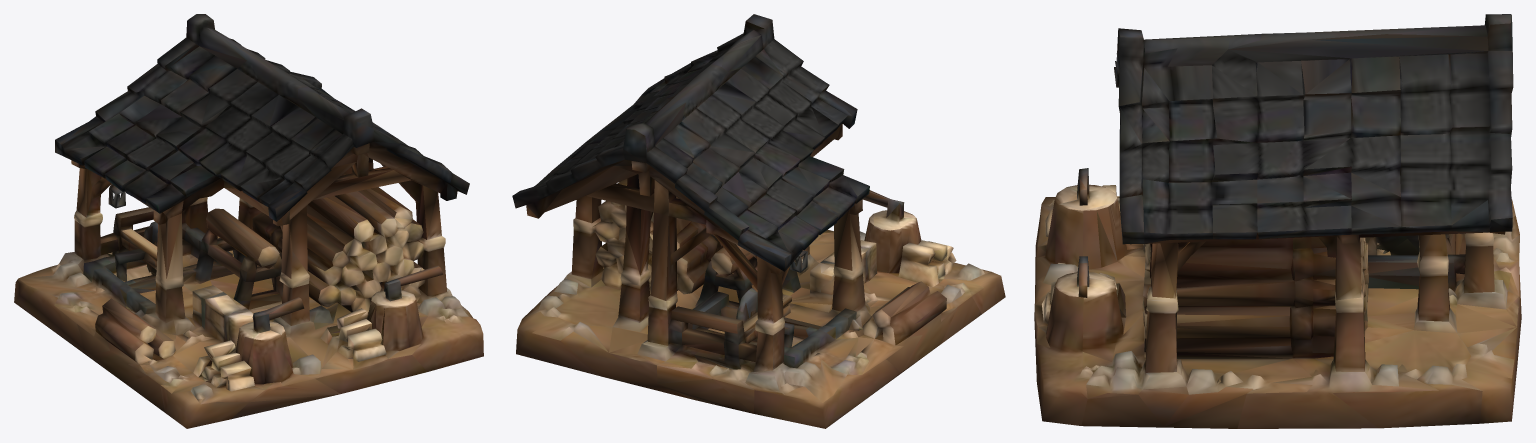
Rendered from lumber_t2.glb.
3 renders of one model, left to right at view 1: azimuth 30°, elevation 25°; view 2: azimuth 150°, elevation 25°; view 3: azimuth 270°, elevation 25°, orthographic. The views are drawn at different scales.
Visible parts, largest first — view 1: tripo_node_64fc16b0-e650-4cfd-9f35-7a60a4f37910; view 2: tripo_node_64fc16b0-e650-4cfd-9f35-7a60a4f37910; view 3: tripo_node_64fc16b0-e650-4cfd-9f35-7a60a4f37910.
Part boxes in pixels (bbox=[...]): tripo_node_64fc16b0-e650-4cfd-9f35-7a60a4f37910: bbox=[14, 14, 483, 428]; tripo_node_64fc16b0-e650-4cfd-9f35-7a60a4f37910: bbox=[512, 14, 1005, 428]; tripo_node_64fc16b0-e650-4cfd-9f35-7a60a4f37910: bbox=[1034, 14, 1521, 428].
Bounding box in the file's own units: 0.9792 × 0.728 × 0.9726.
1 material, 1 textured.
